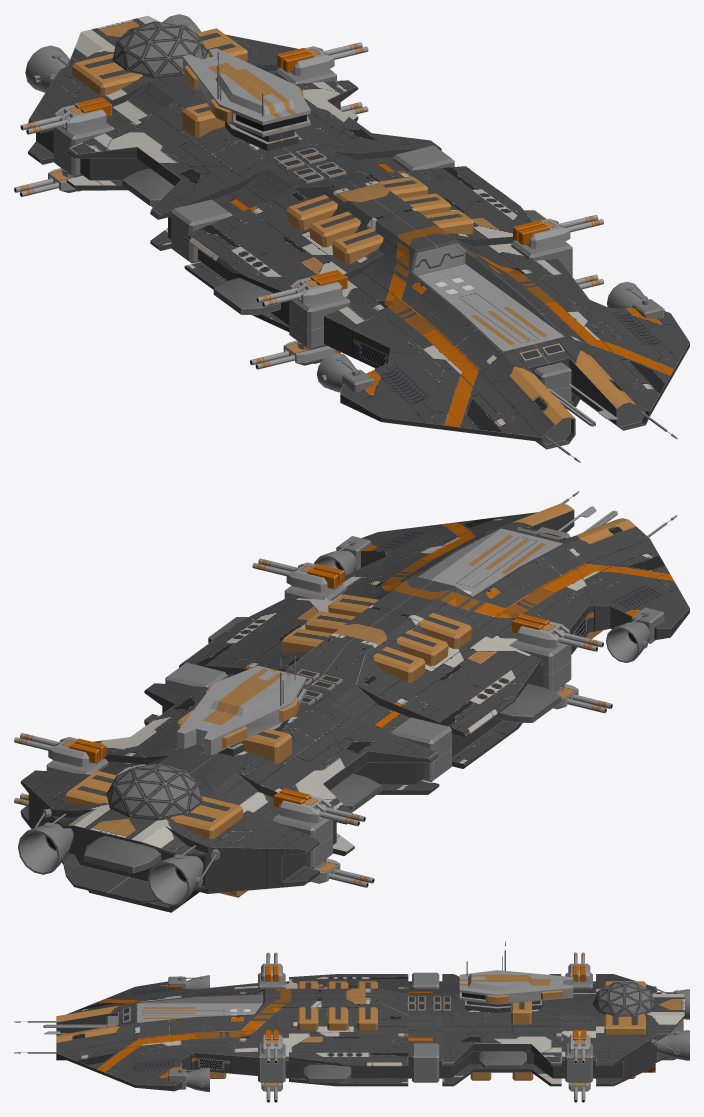
The model's file is Mothership_Final.fbx.
The picture shows the model from 3 angles, top to bottom: view 1: azimuth 30°, elevation 25°; view 2: azimuth 150°, elevation 25°; view 3: azimuth 270°, elevation 25°; orthographic projection. The views are drawn at different scales.
Parts seen in each view (by area): view 1: polySurface182, polySurface213, polySurface176, polySurface180, polySurface174, polySurface67, polySurface181, polySurface226, polySurface233, polySurface177, polySurface221; view 2: polySurface182, polySurface213, polySurface214, polySurface226, polySurface176, polySurface180, polySurface67, polySurface174, polySurface233, polySurface177, polySurface181, polySurface221; view 3: polySurface182, polySurface213, polySurface214, polySurface174, polySurface67, polySurface180, polySurface176, polySurface221, polySurface175, polySurface90, polySurface233.
Part boxes in pixels (x1,y1,x2,y2): polySurface182: (28,15,689,462); polySurface213: (112,21,207,77); polySurface176: (20,97,111,134); polySurface180: (256,270,347,306); polySurface174: (277,42,368,76); polySurface67: (513,214,603,248); polySurface181: (250,340,340,369); polySurface226: (25,45,69,92); polySurface233: (317,352,356,392); polySurface177: (14,168,82,196); polySurface221: (607,281,646,308); polySurface182: (20,491,689,912); polySurface213: (106,763,202,820); polySurface214: (18,823,73,874); polySurface226: (148,855,203,906); polySurface176: (273,788,365,826); polySurface180: (512,614,603,651); polySurface67: (252,558,344,592); polySurface174: (14,733,106,767); polySurface233: (606,622,649,662); polySurface177: (309,858,374,887); polySurface181: (553,684,612,713); polySurface221: (314,550,356,575); polySurface182: (14,941,684,1091); polySurface213: (592,982,656,1016); polySurface214: (657,1030,689,1060); polySurface174: (568,1030,590,1063); polySurface67: (261,1030,282,1063); polySurface180: (261,952,282,981); polySurface176: (568,952,590,981); polySurface221: (186,1067,209,1091); polySurface175: (568,1082,590,1102); polySurface90: (261,1082,282,1102); polySurface233: (186,975,209,989).
Bounding box in the file's own units: 152 × 69.41 × 395.
Materials: 1 (1 with a texture image).
